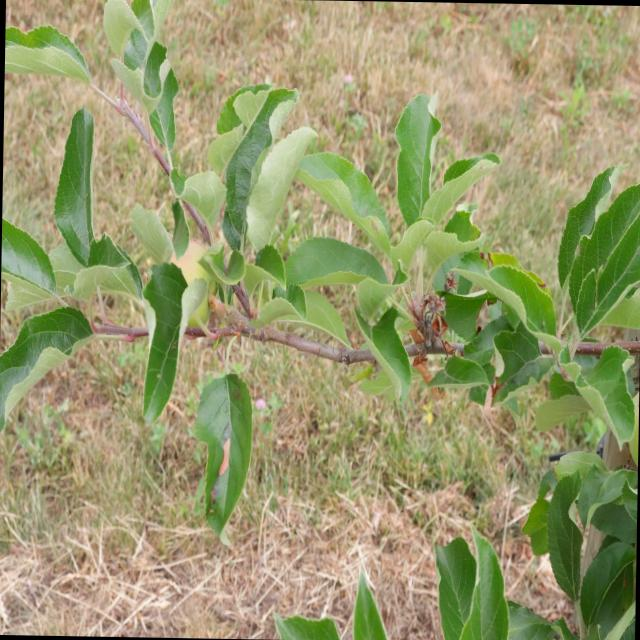-FireBlight-: (405, 299, 446, 389)
